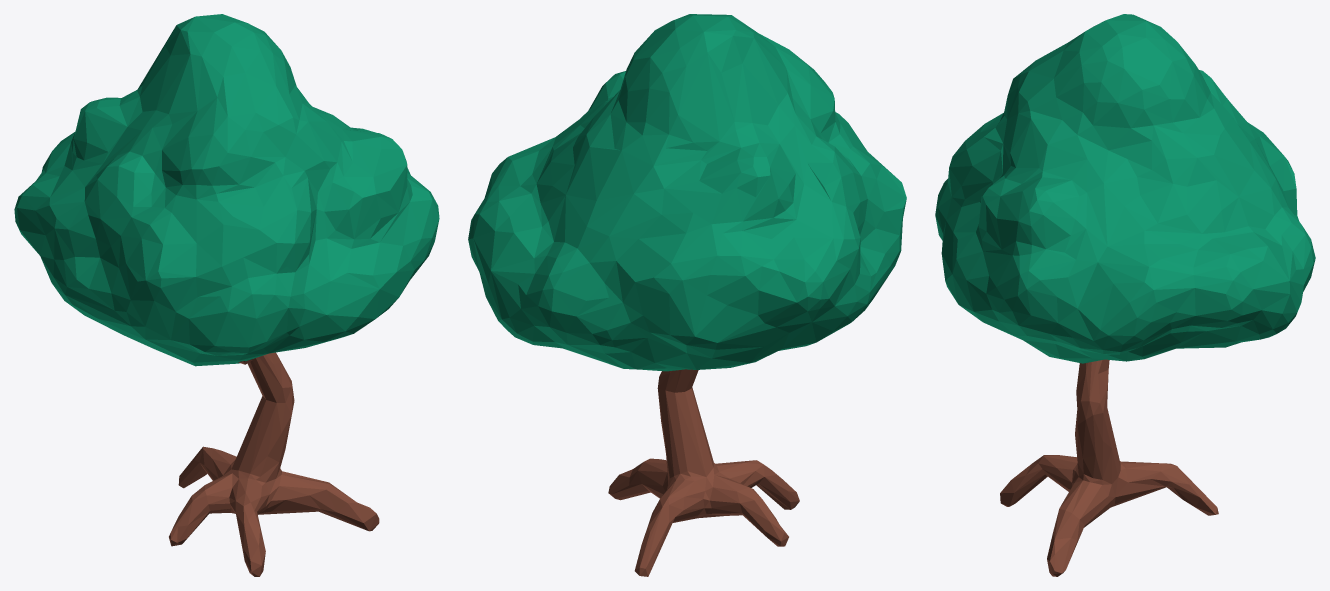
The model's file is Arbre1.fbx.
3 views of the same model, side by side, from view 1: azimuth 30°, elevation 25°; view 2: azimuth 150°, elevation 25°; view 3: azimuth 270°, elevation 25° (orthographic). The views are drawn at different scales.
Parts seen in each view (by area): view 1: Tree; view 2: Tree; view 3: Tree.
Part boxes in pixels (left/top/right/bottom): Tree: left=14, top=14, right=439, bottom=576; Tree: left=468, top=14, right=906, bottom=576; Tree: left=935, top=14, right=1315, bottom=576.
Bounding box in the file's own units: 796 × 1098 × 766.
